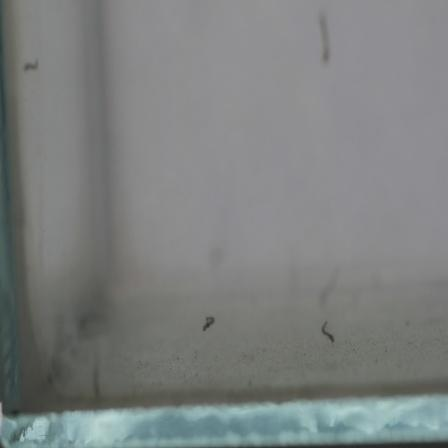Jentik-Nyamuk: (316, 319, 339, 345), (200, 313, 218, 336)
